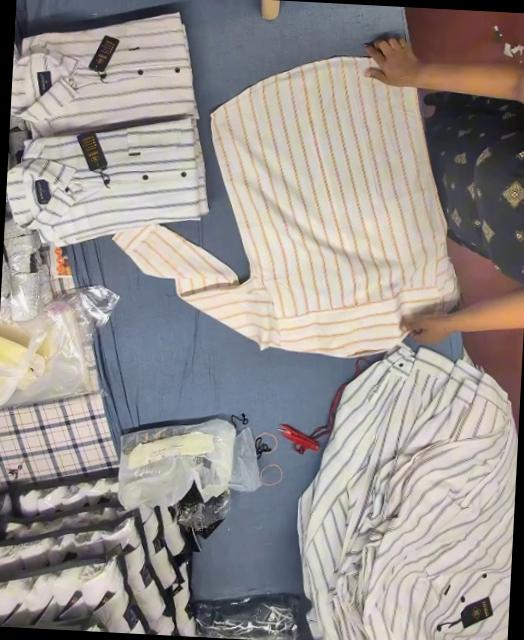new-garment: (113, 57, 457, 356)
